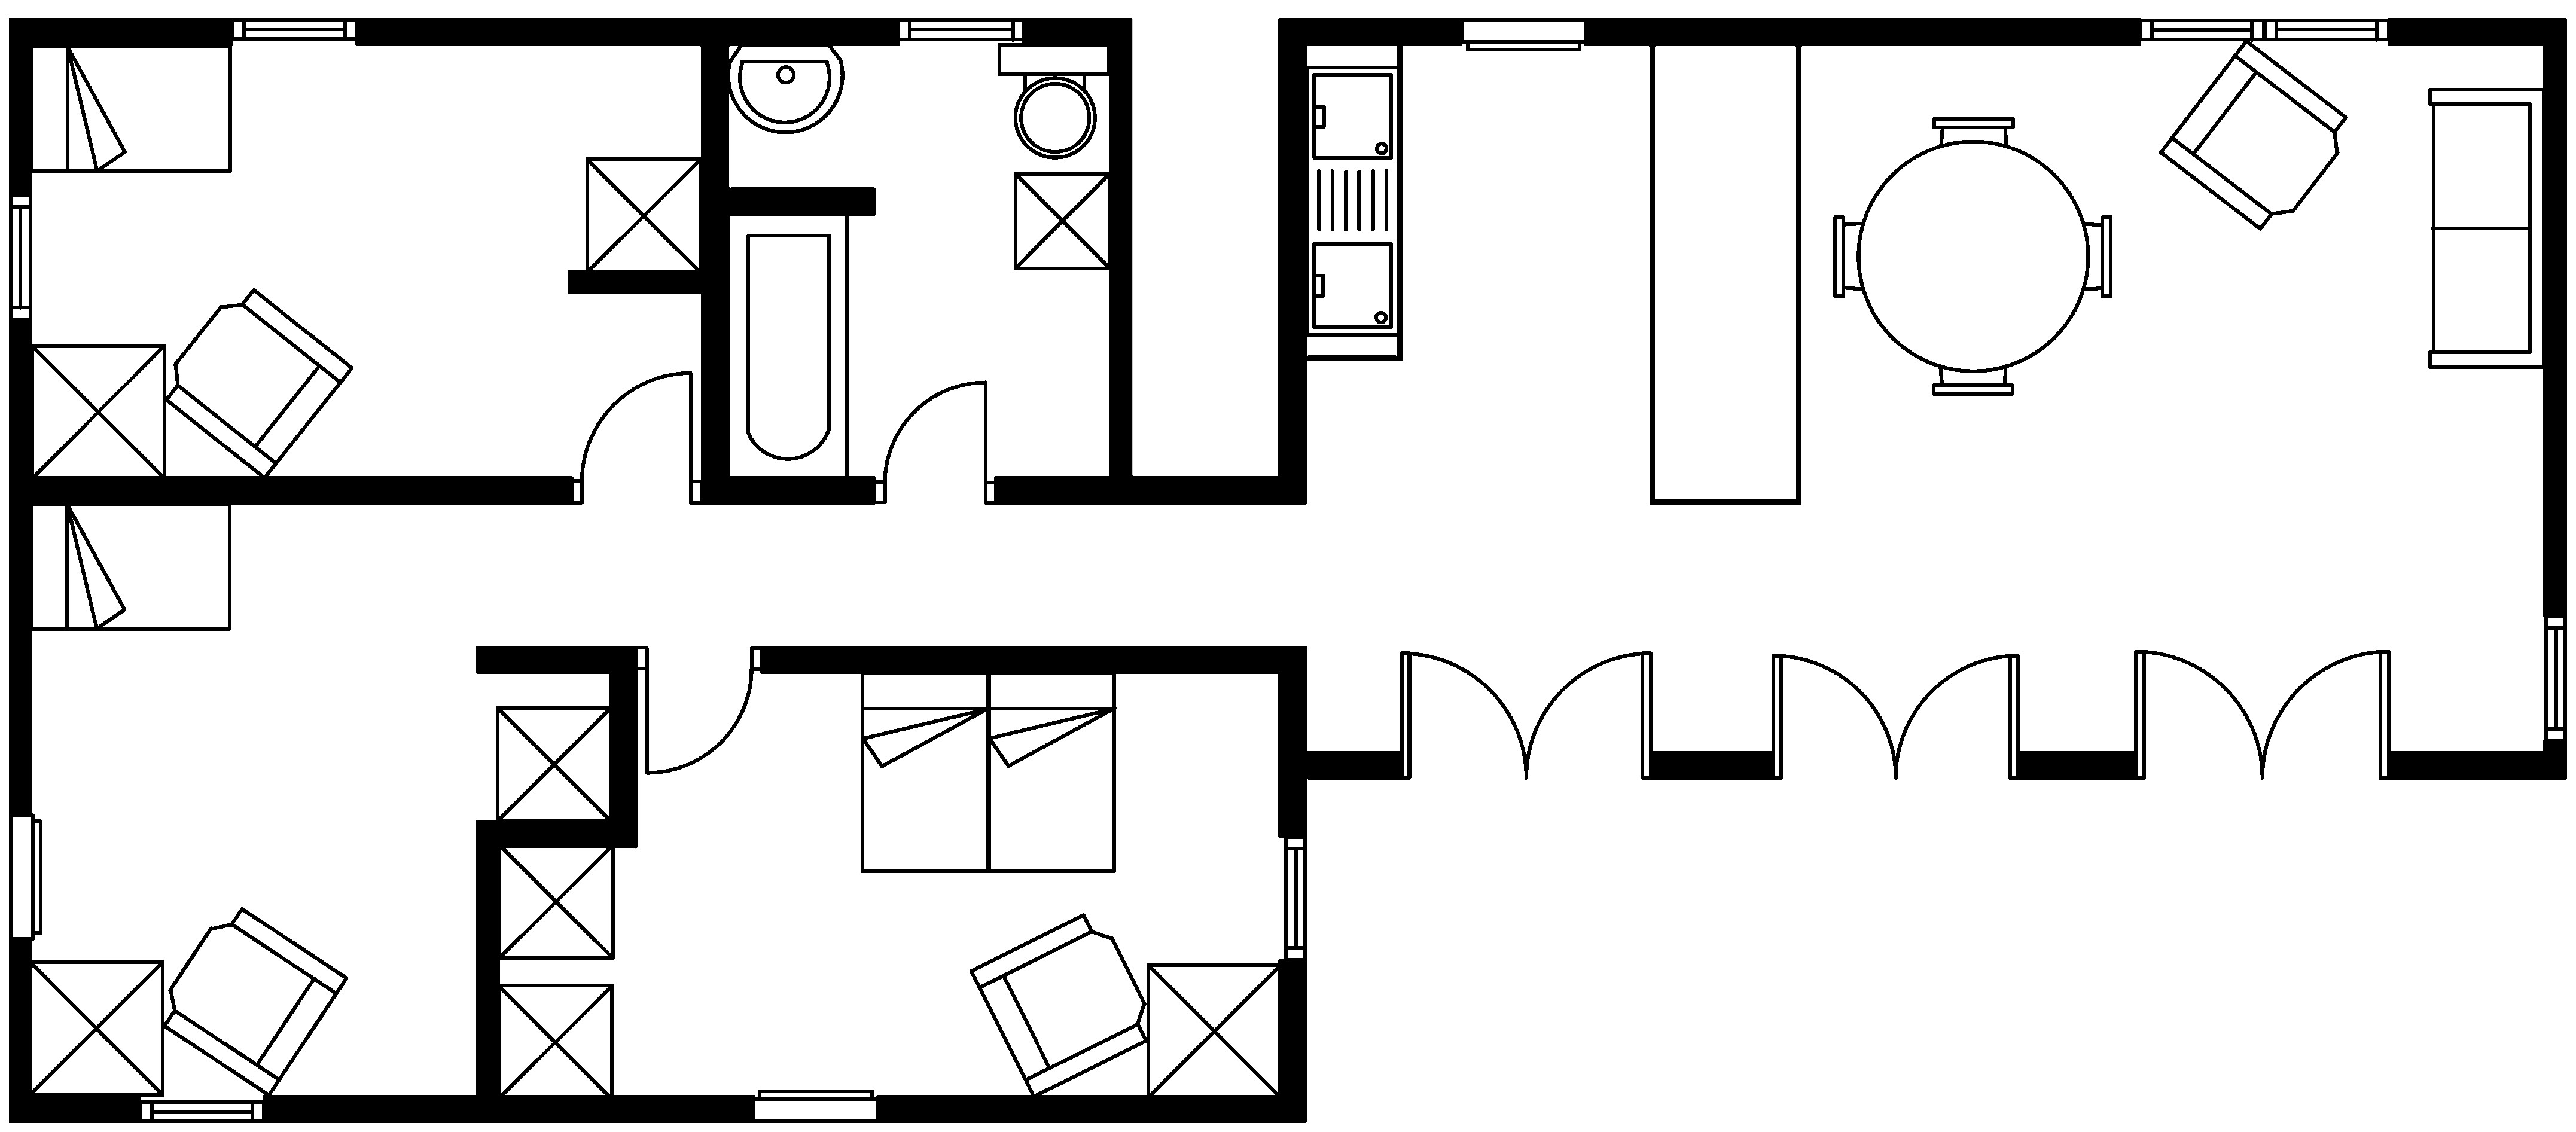armchair: (163, 288, 353, 480), (2159, 38, 2348, 230), (161, 905, 348, 1097), (968, 912, 1148, 1099)
bed: (30, 43, 232, 174), (859, 670, 991, 872), (986, 670, 1117, 872), (28, 501, 232, 631)
coffee_table: (26, 959, 164, 1097), (1145, 963, 1283, 1099), (30, 343, 166, 480), (494, 982, 614, 1101), (494, 705, 613, 823), (496, 841, 614, 959), (585, 156, 702, 274), (1012, 171, 1112, 271)
large_sink: (997, 41, 1111, 158)
large_sofa: (2426, 87, 2545, 370)
round_table: (1832, 117, 2113, 396)
small_sink: (726, 43, 843, 133)
tub: (726, 210, 849, 483)
twin_sink: (1304, 64, 1401, 337)
